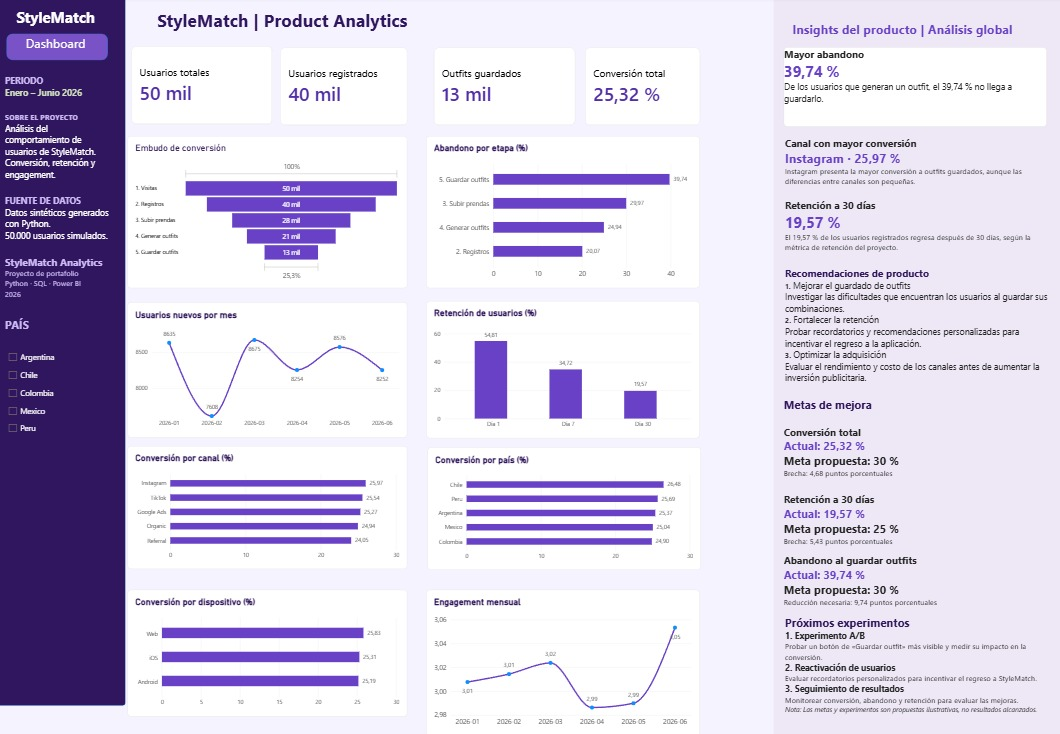

Layout of this report page (visuals, bound fields, positions):
{"tool":"powerbi","page":{"name":"Página 1","canvas":[2300,1600],"ordinal":0},"visuals":[{"type":"shape","box":[0,0,280,1522],"z":0},{"type":"textbox","box":[0,24,260,84],"z":1000},{"type":"shape","box":[23,81.7,218.2,57.6],"z":2000},{"type":"textbox","box":[0,82,260,56],"z":3000},{"type":"textbox","box":[291.1,25.5,592.3,166],"z":4000},{"type":"cardVisual","fields":{"Data":["users.Usuarios totales dinámicos"]},"box":[291.3,107.3,303.8,168.5],"z":5000},{"type":"cardVisual","fields":{"Data":["monthly_metrics.Usuarios registrados dinámicos"]},"box":[610,110,274,168],"z":6000},{"type":"cardVisual","fields":{"Data":["events.Outfits guardados dinámicos"]},"box":[940,110,303.8,168.5],"z":7000},{"type":"cardVisual","fields":{"Data":["events.Conversión total dinámica"]},"box":[1264.3,110,247.1,168.6],"z":8000},{"type":"funnel","title":"Embudo de conversión","fields":{"Category":["funnel.Etapa"],"Y":["funnel.Usuarios embudo dinámico"]},"box":[284,300,600,326],"z":9000},{"type":"clusteredBarChart","title":"Abandono por etapa (%)","fields":{"Category":["funnel.Etapa"],"Y":["funnel.Abandono dinámico (%)"]},"box":[926,300,586,326],"z":10000},{"type":"lineChart","title":"Usuarios nuevos por mes","fields":{"Category":["monthly_metrics.month"],"Y":["monthly_metrics.Usuarios nuevos por mes dinámicos"]},"box":[284,656,600,290],"z":11000},{"type":"clusteredColumnChart","title":"Retención de usuarios (%)","fields":{"Category":["retention_summary.Periodo"],"Y":["retention_summary.Retención dinámica (%)"]},"box":[926,654,586,294],"z":12000},{"type":"clusteredBarChart","title":"Conversión por canal (%)","fields":{"Category":["conversion_by_channel.acquisition_channel"],"Y":["conversion_by_channel.Conversión por canal dinámica (%)"]},"box":[284,966,600,264],"z":13000},{"type":"clusteredBarChart","title":"Conversión por país (%)","fields":{"Category":["conversion_by_country.country"],"Y":["Max(conversion_by_country.save_outfit)"]},"box":[926.7,966.7,586.7,263.3],"z":14000},{"type":"clusteredBarChart","title":"Conversión por dispositivo (%)","fields":{"Category":["conversion_by_device.device"],"Y":["conversion_by_device.Conversión por dispositivo dinámica (%)"]},"box":[283.3,1273.3,600,271.7],"z":15000},{"type":"lineChart","title":"Engagement mensual","fields":{"Category":["monthly_metrics.month"],"Y":["monthly_metrics.Engagement mensual dinámico"]},"box":[925.5,1272.5,586.3,313.7],"z":16000},{"type":"shape","box":[1669.2,0,630.8,1600],"z":17000},{"type":"textbox","box":[1710,52.5,545,55],"z":18000},{"type":"textbox","box":[1692,110,564,170],"z":19000},{"type":"textbox","box":[1693.3,300,561.7,163.3],"z":20000},{"type":"textbox","box":[1693.3,435,565,173.3],"z":21000},{"type":"textbox","box":[1693.3,578.3,586.7,281.7],"z":22000},{"type":"textbox","box":[1692.5,860,587.5,60],"z":24000},{"type":"textbox","box":[1692.5,920,565,160],"z":25000},{"type":"textbox","box":[1691.7,1080,590,150],"z":26000},{"type":"textbox","box":[1691.7,1065,590,151.7],"z":27000},{"type":"textbox","box":[1691.7,1195,590,133.3],"z":28000},{"type":"textbox","box":[1693.3,1328.3,588.3,241.7],"z":29000},{"type":"textbox","box":[22.5,168.8,248.8,228.8],"z":30000},{"type":"textbox","box":[22,250,220,176],"z":31000},{"type":"textbox","box":[22,426,236,128],"z":32000},{"type":"textbox","box":[22,554,250,136],"z":33000},{"type":"slicer","fields":{"Values":["users.country"]},"box":[21.7,755,218.3,245],"z":34000},{"type":"textbox","box":[21.7,690,238.3,65],"z":35000}]}

Visuals, with their boxes in screenshot pixels (x1, y1, x2, y2), scaled from the page's 2300x1600 canvas onto the 1060x734 screenshot:
shape: detection(0, 0, 129, 698)
textbox: detection(0, 11, 120, 50)
shape: detection(11, 37, 111, 64)
textbox: detection(0, 38, 120, 63)
textbox: detection(134, 12, 407, 88)
cardVisual - users.Usuarios totales dinámicos: detection(134, 49, 274, 127)
cardVisual - monthly_metrics.Usuarios registrados dinámicos: detection(281, 50, 407, 128)
cardVisual - events.Outfits guardados dinámicos: detection(433, 50, 573, 128)
cardVisual - events.Conversión total dinámica: detection(583, 50, 697, 128)
"Embudo de conversión" funnel: detection(131, 138, 407, 287)
"Abandono por etapa (%)" clusteredBarChart: detection(427, 138, 697, 287)
"Usuarios nuevos por mes" lineChart: detection(131, 301, 407, 434)
"Retención de usuarios (%)" clusteredColumnChart: detection(427, 300, 697, 435)
"Conversión por canal (%)" clusteredBarChart: detection(131, 443, 407, 564)
"Conversión por país (%)" clusteredBarChart: detection(427, 443, 697, 564)
"Conversión por dispositivo (%)" clusteredBarChart: detection(131, 584, 407, 709)
"Engagement mensual" lineChart: detection(427, 584, 697, 728)
shape: detection(769, 0, 1059, 733)
textbox: detection(788, 24, 1039, 49)
textbox: detection(780, 50, 1040, 128)
textbox: detection(780, 138, 1039, 213)
textbox: detection(780, 200, 1041, 279)
textbox: detection(780, 265, 1051, 395)
textbox: detection(780, 395, 1051, 422)
textbox: detection(780, 422, 1040, 495)
textbox: detection(780, 495, 1052, 564)
textbox: detection(780, 489, 1052, 558)
textbox: detection(780, 548, 1052, 609)
textbox: detection(780, 609, 1052, 720)
textbox: detection(10, 77, 125, 182)
textbox: detection(10, 115, 112, 195)
textbox: detection(10, 195, 119, 254)
textbox: detection(10, 254, 125, 317)
slicer - users.country: detection(10, 346, 111, 459)
textbox: detection(10, 317, 120, 346)
